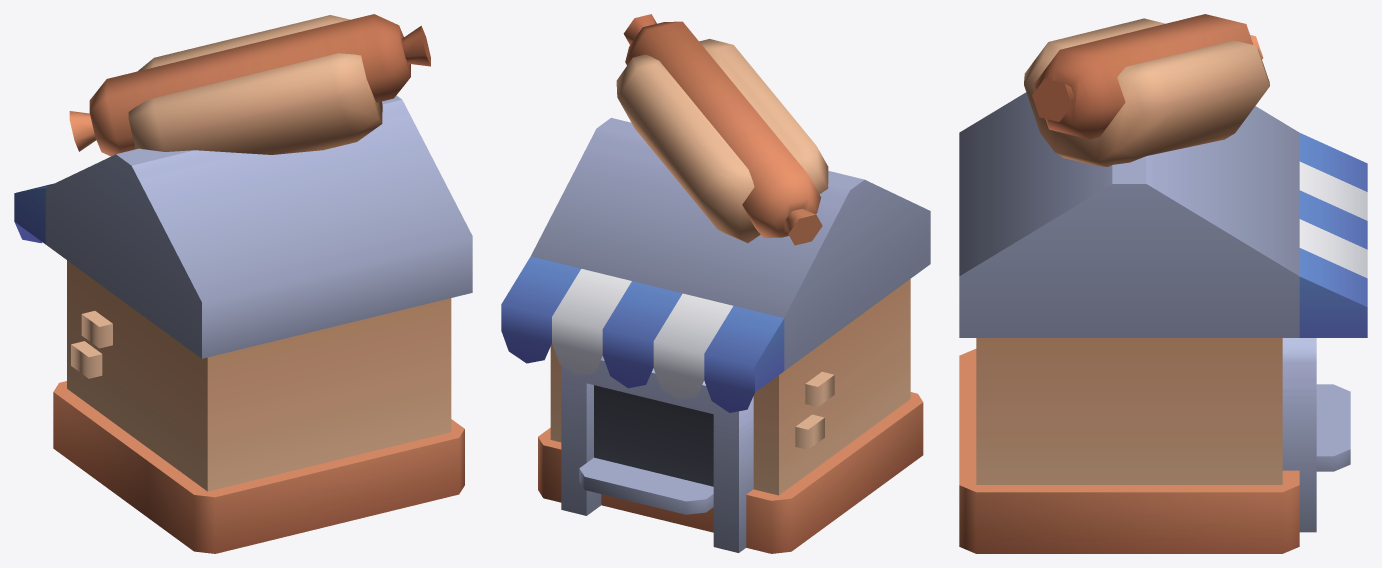
Rendered from kenney-coaster-stall-food.glb.
3 views of the same model, side by side, from view 1: azimuth 30°, elevation 25°; view 2: azimuth 150°, elevation 25°; view 3: azimuth 270°, elevation 25° (orthographic). The views are drawn at different scales.
Visible parts, largest first — view 1: stall-food; view 2: stall-food; view 3: stall-food.
Boxes of the visible parts, x1=… form: stall-food: x1=14, y1=14, x2=472, y2=553; stall-food: x1=501, y1=14, x2=930, y2=553; stall-food: x1=959, y1=14, x2=1367, y2=553.
Size of the model in its own units: 1.04 by 1.54 by 1.2.
Materials: 1 (1 with a texture image).
